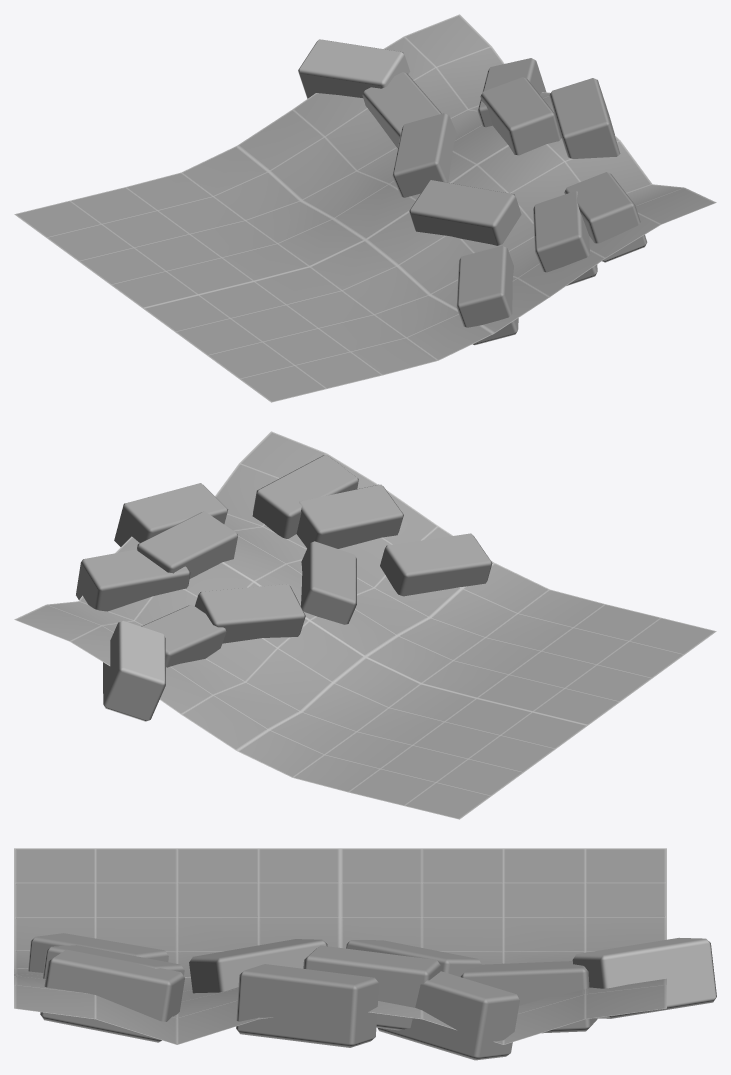
Rendered from proto_debris_floor_01.fbx.
3 renders of one model, top to bottom at view 1: azimuth 30°, elevation 25°; view 2: azimuth 150°, elevation 25°; view 3: azimuth 270°, elevation 25°, orthographic. The views are drawn at different scales.
Visible parts, largest first — view 1: proto_debris_floor_01; view 2: proto_debris_floor_01; view 3: proto_debris_floor_01.
Part boxes in pixels (<box>): proto_debris_floor_01: <box>14,14,716,402</box>; proto_debris_floor_01: <box>14,431,716,819</box>; proto_debris_floor_01: <box>14,848,716,1060</box>.
Size of the model in its own units: 211 by 53.44 by 215.
